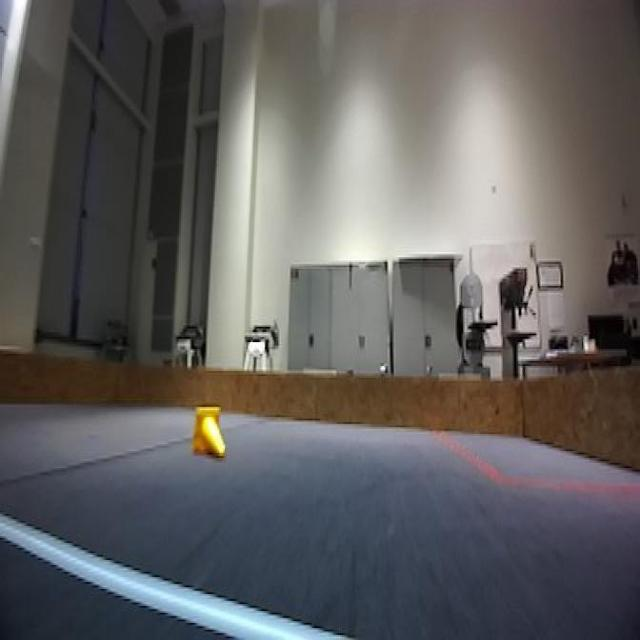frc_cone: (190, 400, 228, 461)
